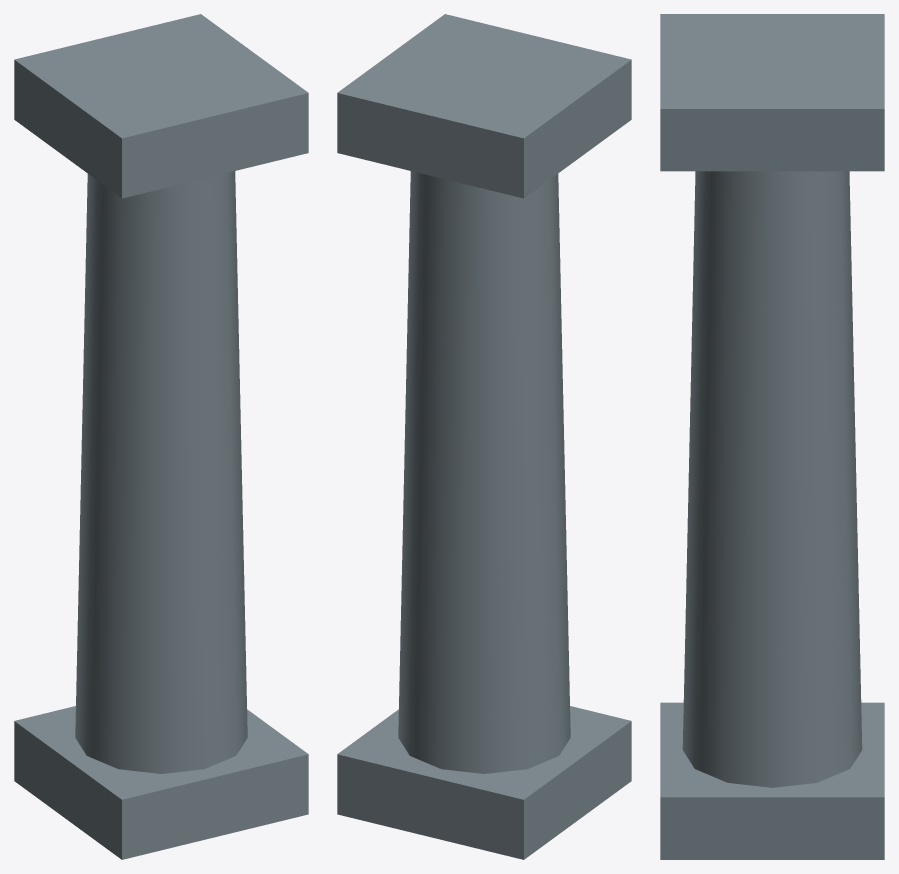
Rendered from pillar.gltf.
The picture shows the model from 3 angles, left to right: view 1: azimuth 30°, elevation 25°; view 2: azimuth 150°, elevation 25°; view 3: azimuth 270°, elevation 25°; orthographic projection. The views are drawn at different scales.
Visible parts, largest first — view 1: Stone pillar; view 2: Stone pillar; view 3: Stone pillar.
Part boxes in pixels (x1,y1,x2,y2): Stone pillar: (14, 14, 308, 859); Stone pillar: (337, 14, 631, 859); Stone pillar: (660, 14, 884, 859).
Bounding box in the file's own units: 0.65 × 2.4 × 0.65.
